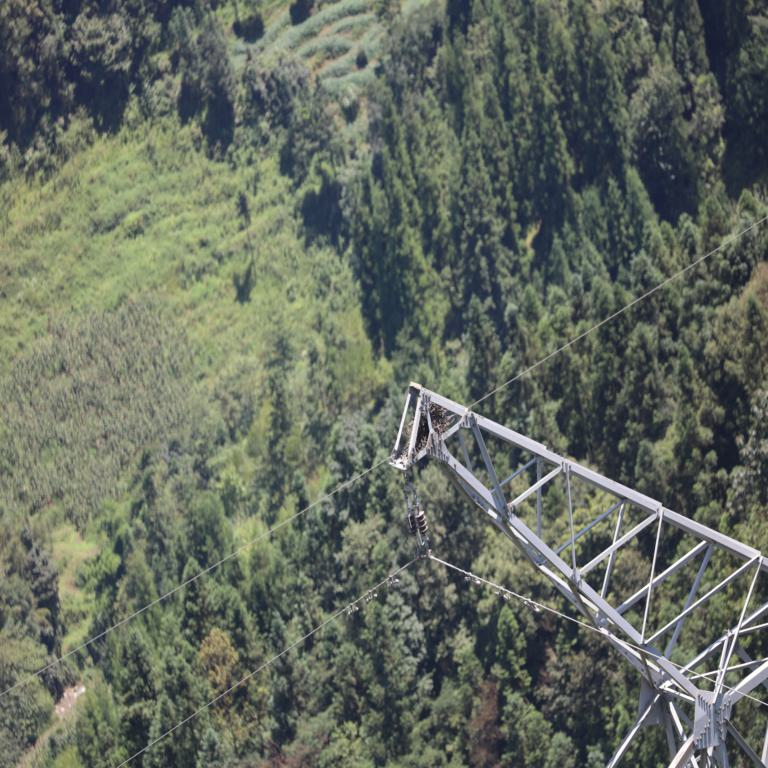nest: (409, 405, 444, 449)
